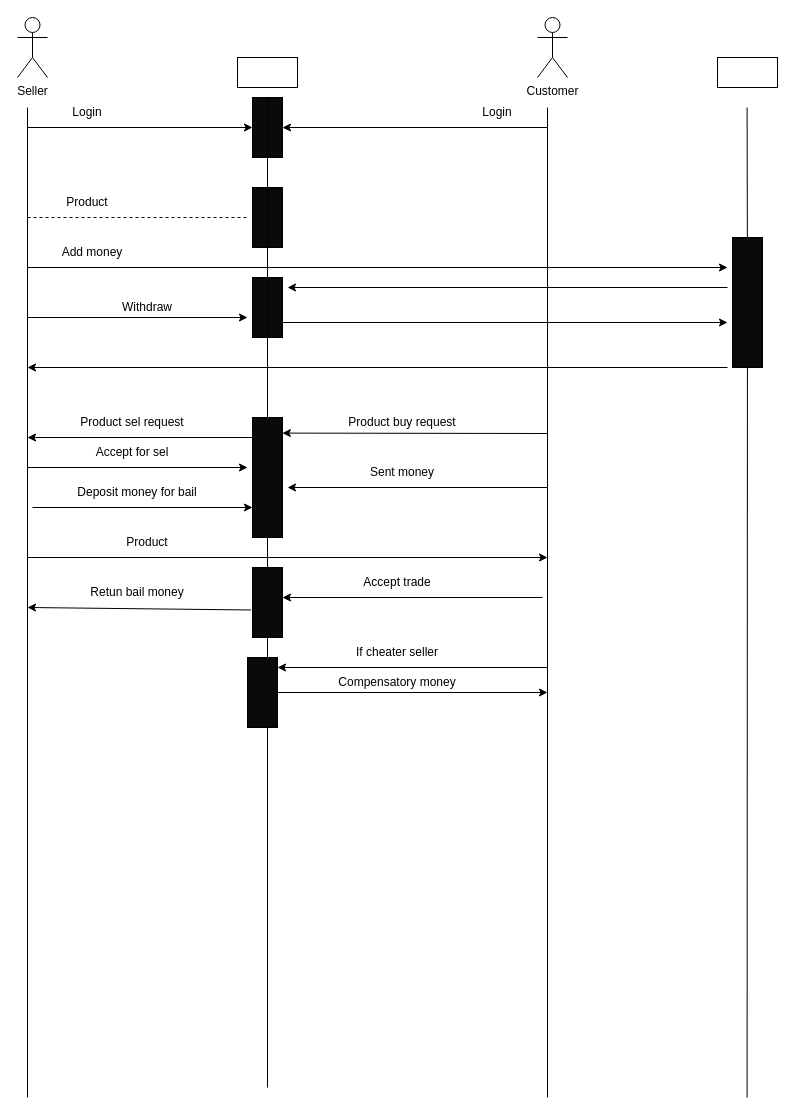
Image size: 795x1116. Some labels were removed from this diagram. The shapes that lost their labels are listed below. From the top down, each one's centre as x and y in pixels, then its label:
At point 267,72: "FarmLink".
At point 747,72: "Bank".
